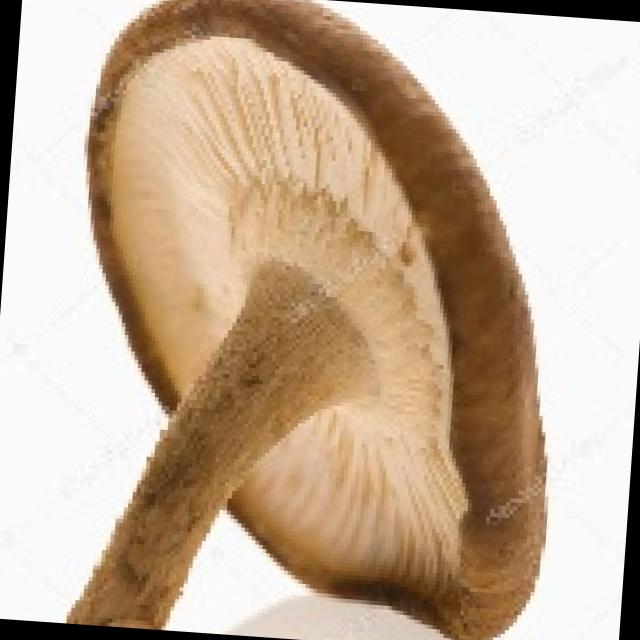mushroom: (39, 0, 593, 640)
